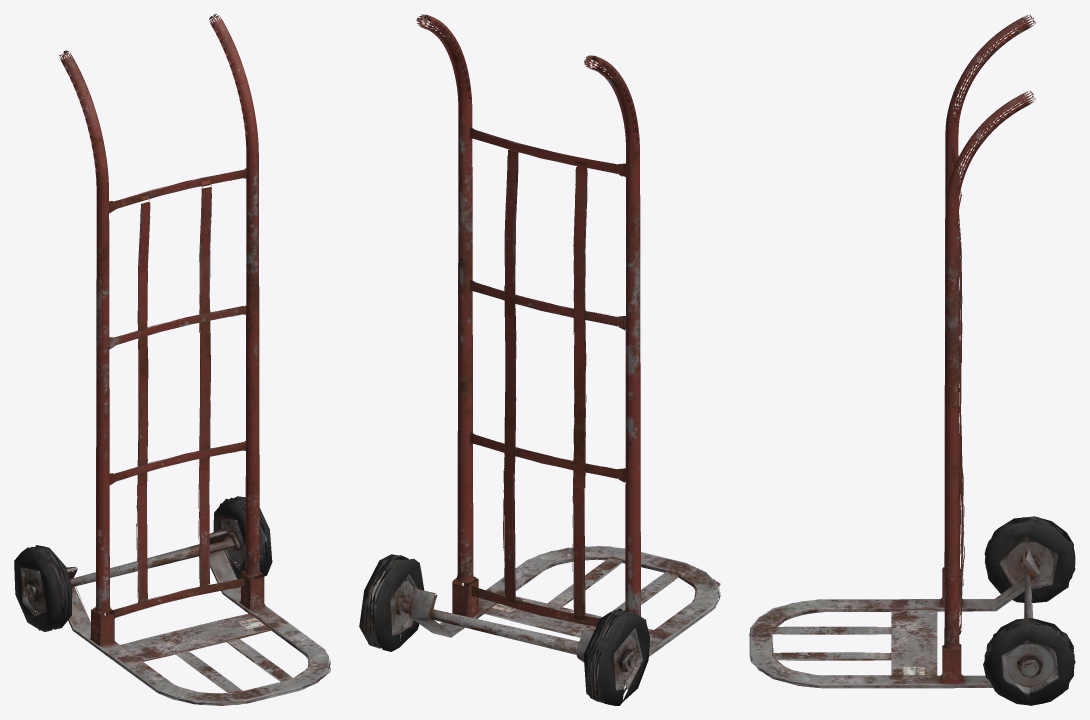
Rendered from hand_truck.glb.
The picture shows the model from 3 angles, left to right: view 1: azimuth 30°, elevation 25°; view 2: azimuth 150°, elevation 25°; view 3: azimuth 270°, elevation 25°; orthographic projection. The views are drawn at different scales.
Parts seen in each view (by area): view 1: hand_truck; view 2: hand_truck; view 3: hand_truck.
Part boxes in pixels (x1=…): hand_truck: x1=14, y1=14, x2=330, y2=705; hand_truck: x1=359, y1=14, x2=720, y2=705; hand_truck: x1=749, y1=14, x2=1075, y2=705.
Bounding box in the file's own units: 0.5933 × 1.41 × 0.6932.
Materials: 1 (1 with a texture image).
